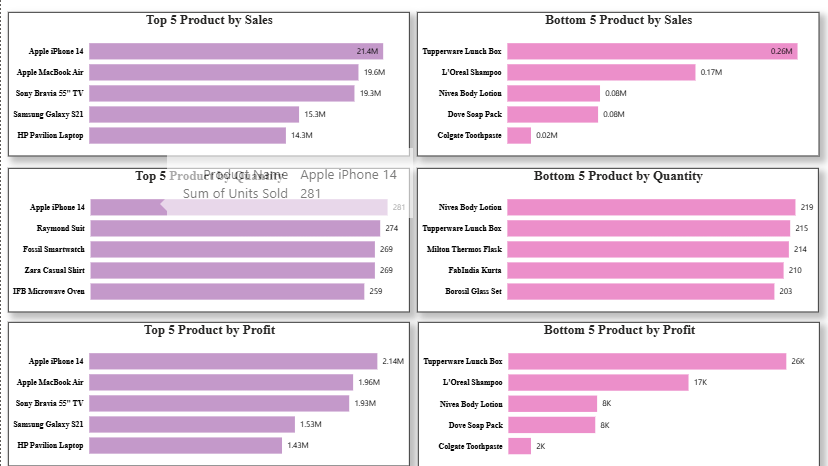

Layout of this report page (visuals, bound fields, positions):
{"tool":"powerbi","page":{"name":"Top/Botton Analysis","canvas":[1280,720],"ordinal":1},"visuals":[{"type":"barChart","title":"Top 5 Product by Sales","fields":{"Category":["Dim Product.Product Name"],"Y":["Sum(Fact Table.Net Sales)"]},"box":[10.2,20.5,617.6,222.4],"z":0},{"type":"barChart","title":"Bottom 5 Product by Sales","fields":{"Category":["Dim Product.Product Name"],"Y":["Sum(Fact Table.Net Sales)"]},"box":[639.5,20.5,619,222.4],"z":1000},{"type":"barChart","title":"Top 5 Product by Quantity","fields":{"Category":["Dim Product.Product Name"],"Y":["Sum(Fact Table.Units Sold)"]},"box":[10.2,260.5,617.6,222.4],"z":2000},{"type":"barChart","title":"Bottom 5 Product by Quantity","fields":{"Category":["Dim Product.Product Name"],"Y":["Sum(Fact Table.Units Sold)"]},"box":[639.5,260.5,617.6,222.4],"z":3000},{"type":"barChart","title":"Top 5 Product by Profit","fields":{"Category":["Dim Product.Product Name"],"Y":["Sum(Fact Table.Profit)"]},"box":[10.2,497.6,617.6,222.4],"z":4000},{"type":"barChart","title":"Bottom 5 Product by Profit","fields":{"Category":["Dim Product.Product Name"],"Y":["Sum(Fact Table.Profit)"]},"box":[641.7,497.2,618.2,223.4],"z":5000}]}

Visuals, with their boxes in screenshot pixels (x1, y1, x2, y2), scaled from the page's 1280x720 canvas onto the 828x466 screenshot:
"Top 5 Product by Sales" barChart: [7, 13, 406, 157]
"Bottom 5 Product by Sales" barChart: [414, 13, 814, 157]
"Top 5 Product by Quantity" barChart: [7, 169, 406, 313]
"Bottom 5 Product by Quantity" barChart: [414, 169, 813, 313]
"Top 5 Product by Profit" barChart: [7, 322, 406, 465]
"Bottom 5 Product by Profit" barChart: [415, 322, 815, 465]
